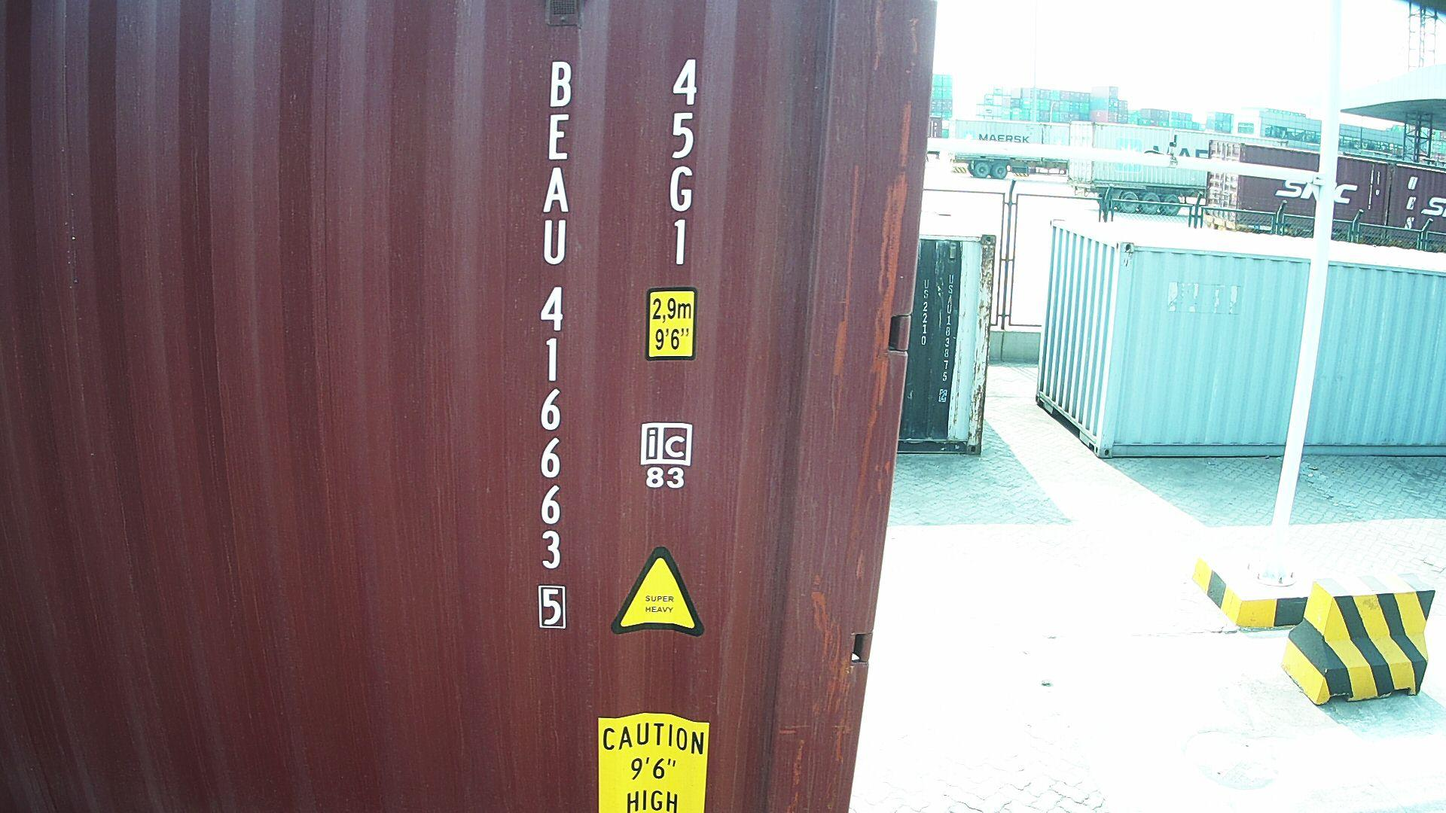container-numbers: (526, 52, 575, 638), (659, 56, 708, 271)
